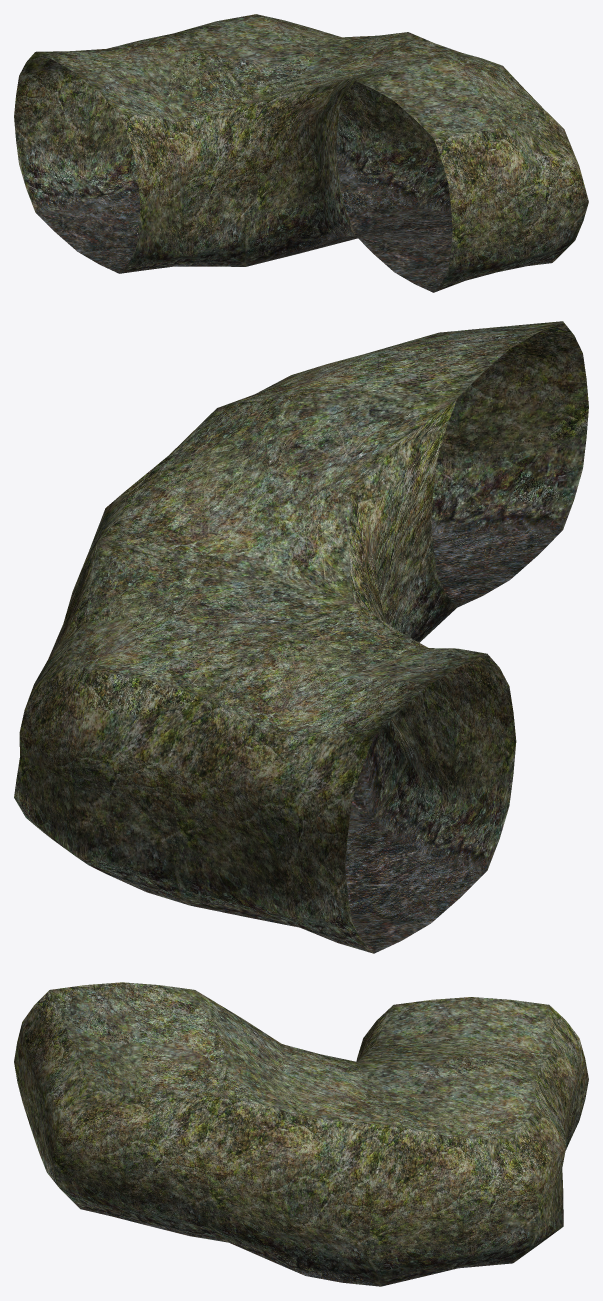
File: thm_all_cave_s03_damprock_mirror_r18_r18.fbx
The picture shows the model from 3 angles, top to bottom: view 1: azimuth 30°, elevation 25°; view 2: azimuth 150°, elevation 25°; view 3: azimuth 270°, elevation 25°; orthographic projection. The views are drawn at different scales.
Parts seen in each view (by area): view 1: mesh_node; view 2: mesh_node; view 3: mesh_node.
Part boxes in pixels (left/top/right/bottom): mesh_node: left=14, top=14, right=588, bottom=292; mesh_node: left=14, top=321, right=588, bottom=953; mesh_node: left=14, top=982, right=588, bottom=1286.
Size of the model in its own units: 16.71 by 12.57 by 26.76.
